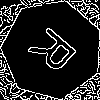R: (27, 24, 86, 82)
